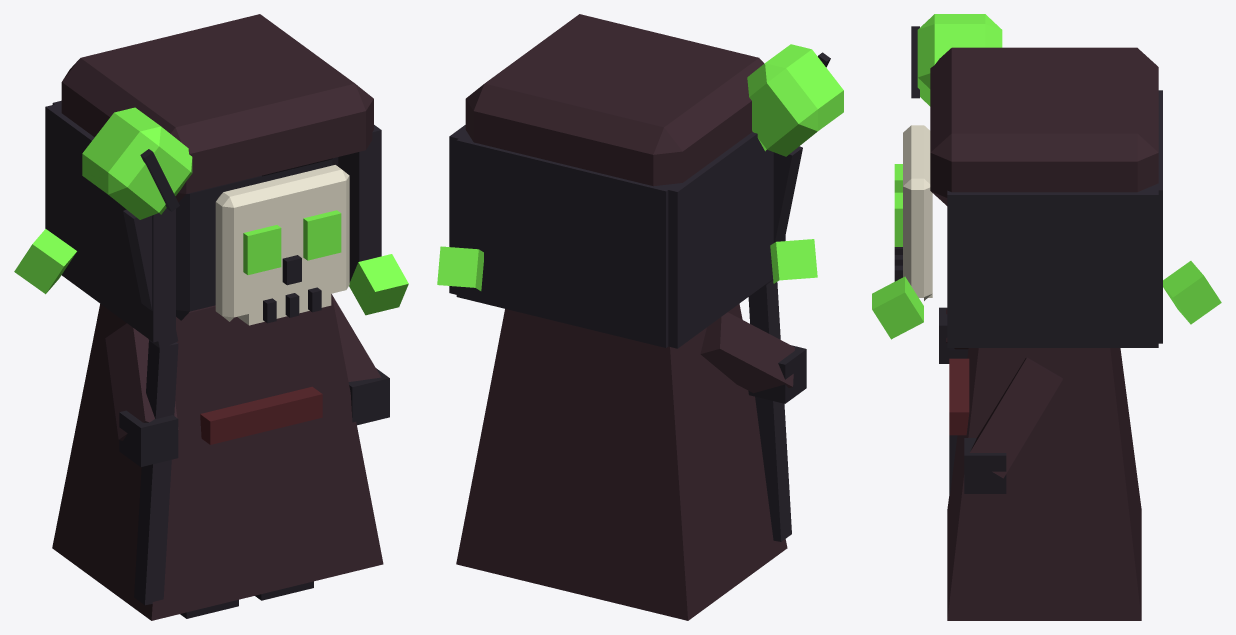
File: weakener_r3.glb
3 renders of one model, left to right at view 1: azimuth 30°, elevation 25°; view 2: azimuth 150°, elevation 25°; view 3: azimuth 270°, elevation 25°, orthographic. The views are drawn at different scales.
Parts seen in each view (by area): view 1: weakener_r3_mesh; view 2: weakener_r3_mesh; view 3: weakener_r3_mesh.
Part boxes in pixels (box(x1,y1,x2,y2)): weakener_r3_mesh: box(14, 14, 408, 620); weakener_r3_mesh: box(437, 14, 843, 620); weakener_r3_mesh: box(872, 14, 1221, 620).
Size of the model in its own units: 1.07 by 1.6 by 0.9931.
Materials: 1 (1 with a texture image).
